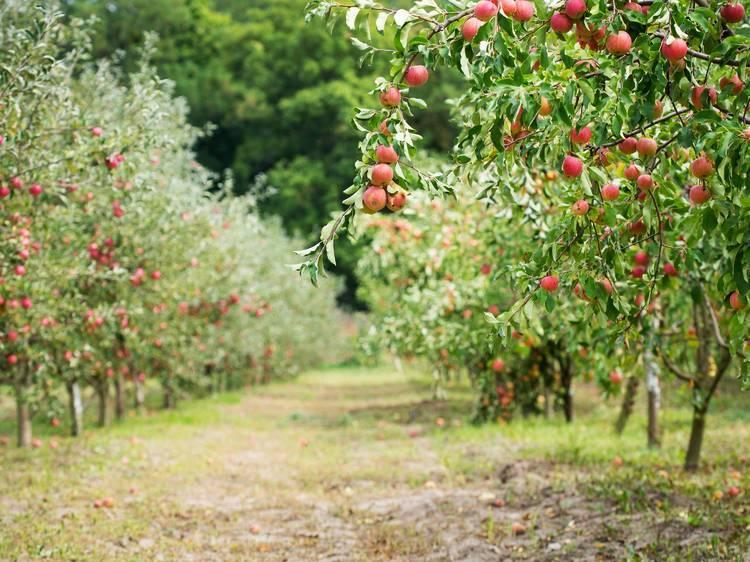apple: (659, 36, 687, 60), (606, 29, 634, 53), (362, 184, 385, 212), (549, 12, 574, 35), (369, 163, 392, 186), (374, 143, 398, 165), (689, 156, 713, 178), (718, 2, 743, 23), (561, 155, 583, 177), (404, 65, 428, 85), (635, 137, 656, 158), (379, 85, 400, 106), (688, 184, 708, 203), (616, 137, 636, 155), (623, 162, 642, 180), (600, 182, 619, 200)
